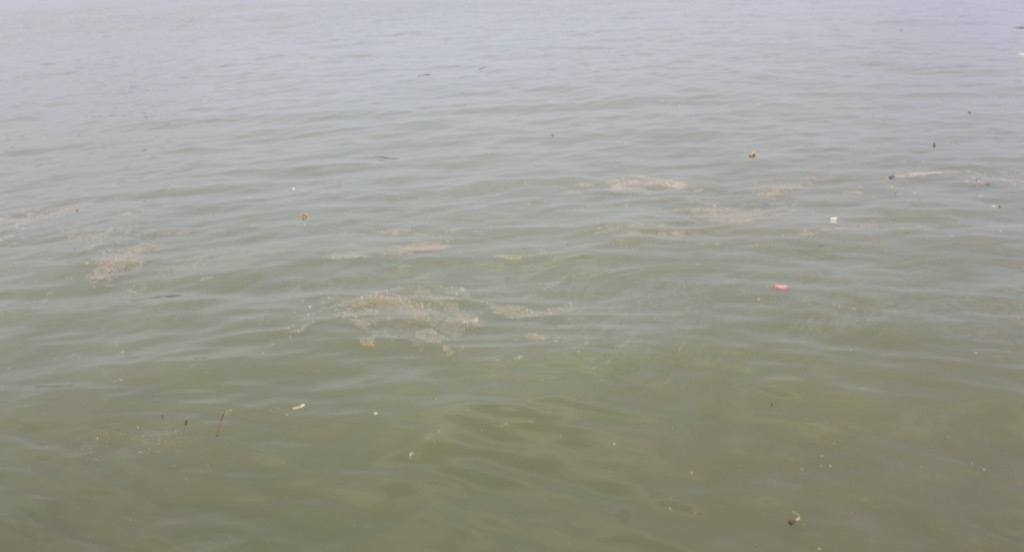organic: (206, 403, 237, 443), (924, 133, 942, 155), (412, 67, 438, 81), (884, 166, 901, 186), (471, 59, 491, 76), (961, 104, 980, 121), (970, 178, 995, 189), (181, 407, 191, 433), (69, 205, 86, 220), (765, 398, 778, 413), (156, 412, 171, 425), (547, 130, 558, 143), (991, 202, 1004, 212)
plastic: (780, 496, 810, 536), (282, 395, 321, 422), (819, 204, 848, 236), (769, 271, 798, 300), (363, 397, 391, 427), (398, 440, 426, 469), (742, 144, 764, 167), (286, 180, 305, 200)
